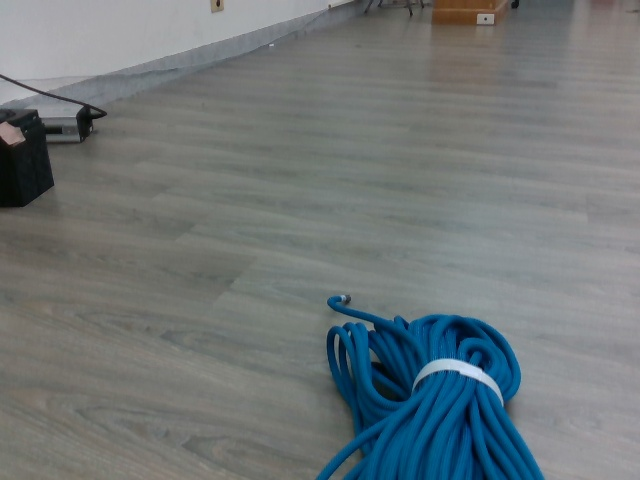rope: (311, 287, 541, 480)
